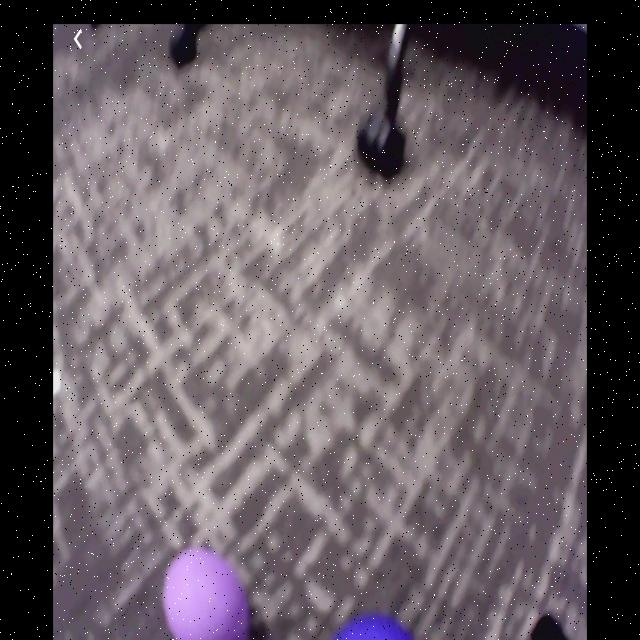ball: (164, 552, 252, 640), (329, 614, 413, 640)
